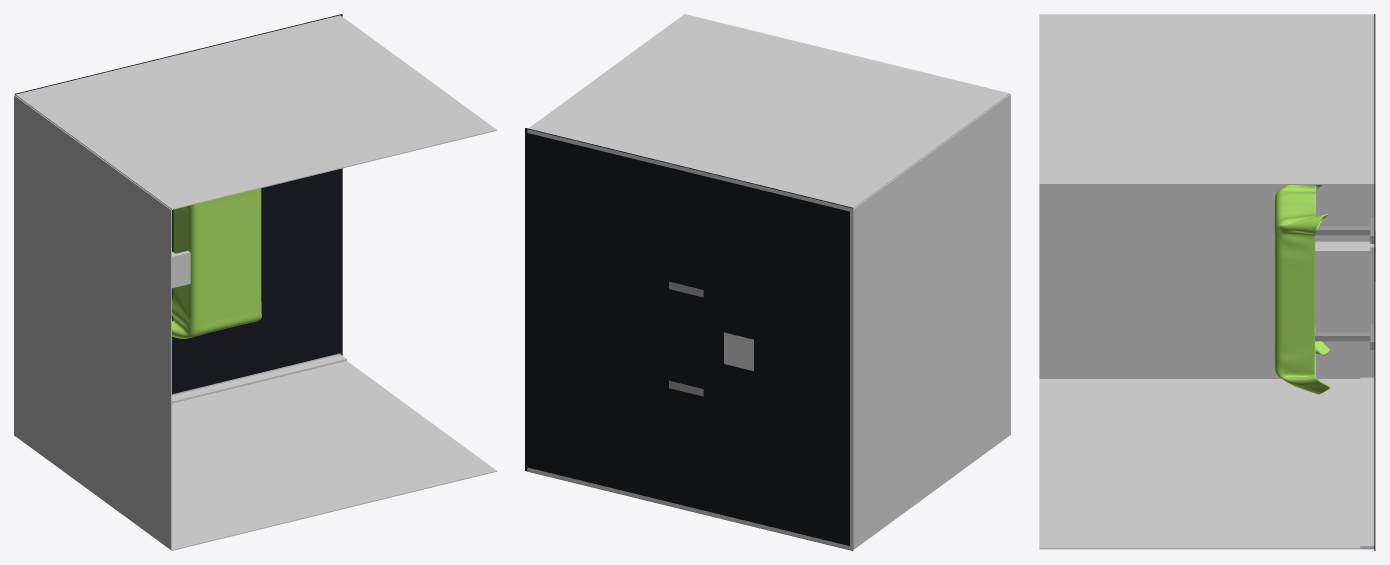
The picture shows the model from 3 angles, left to right: view 1: azimuth 30°, elevation 25°; view 2: azimuth 150°, elevation 25°; view 3: azimuth 270°, elevation 25°; orthographic projection. The views are drawn at different scales.
Visible parts, largest first — view 1: Plane, Plane.002, Plane.001, Plane.003, tablecloth, Cube; view 2: Plane.003, Plane, Plane.002, Plane.001, Cube.001; view 3: Plane.002, Plane.001, Plane, tablecloth, Cube.002, Plane.003, leg1, leg2.
Boxes of the visible parts, x1=… form: Plane: x1=14, y1=95, x2=171, y2=550; Plane.002: x1=15, y1=15, x2=496, y2=209; Plane.001: x1=171, y1=353, x2=496, y2=550; Plane.003: x1=15, y1=14, x2=342, y2=436; tablecloth: x1=172, y1=188, x2=261, y2=338; Cube: x1=172, y1=251, x2=190, y2=288; Plane.003: x1=525, y1=128, x2=853, y2=550; Plane: x1=850, y1=94, x2=1010, y2=549; Plane.002: x1=527, y1=14, x2=1009, y2=211; Plane.001: x1=527, y1=467, x2=852, y2=550; Cube.001: x1=724, y1=332, x2=753, y2=370; Plane.002: x1=1039, y1=14, x2=1374, y2=187; Plane.001: x1=1039, y1=377, x2=1374, y2=549; Plane: x1=1039, y1=185, x2=1374, y2=378; tablecloth: x1=1274, y1=185, x2=1329, y2=394; Cube.002: x1=1315, y1=241, x2=1370, y2=270; Plane.003: x1=1374, y1=14, x2=1375, y2=550; leg1: x1=1315, y1=324, x2=1374, y2=349; leg2: x1=1315, y1=218, x2=1374, y2=243.
Bounding box in the file's own units: 3.62 × 3.61 × 3.
